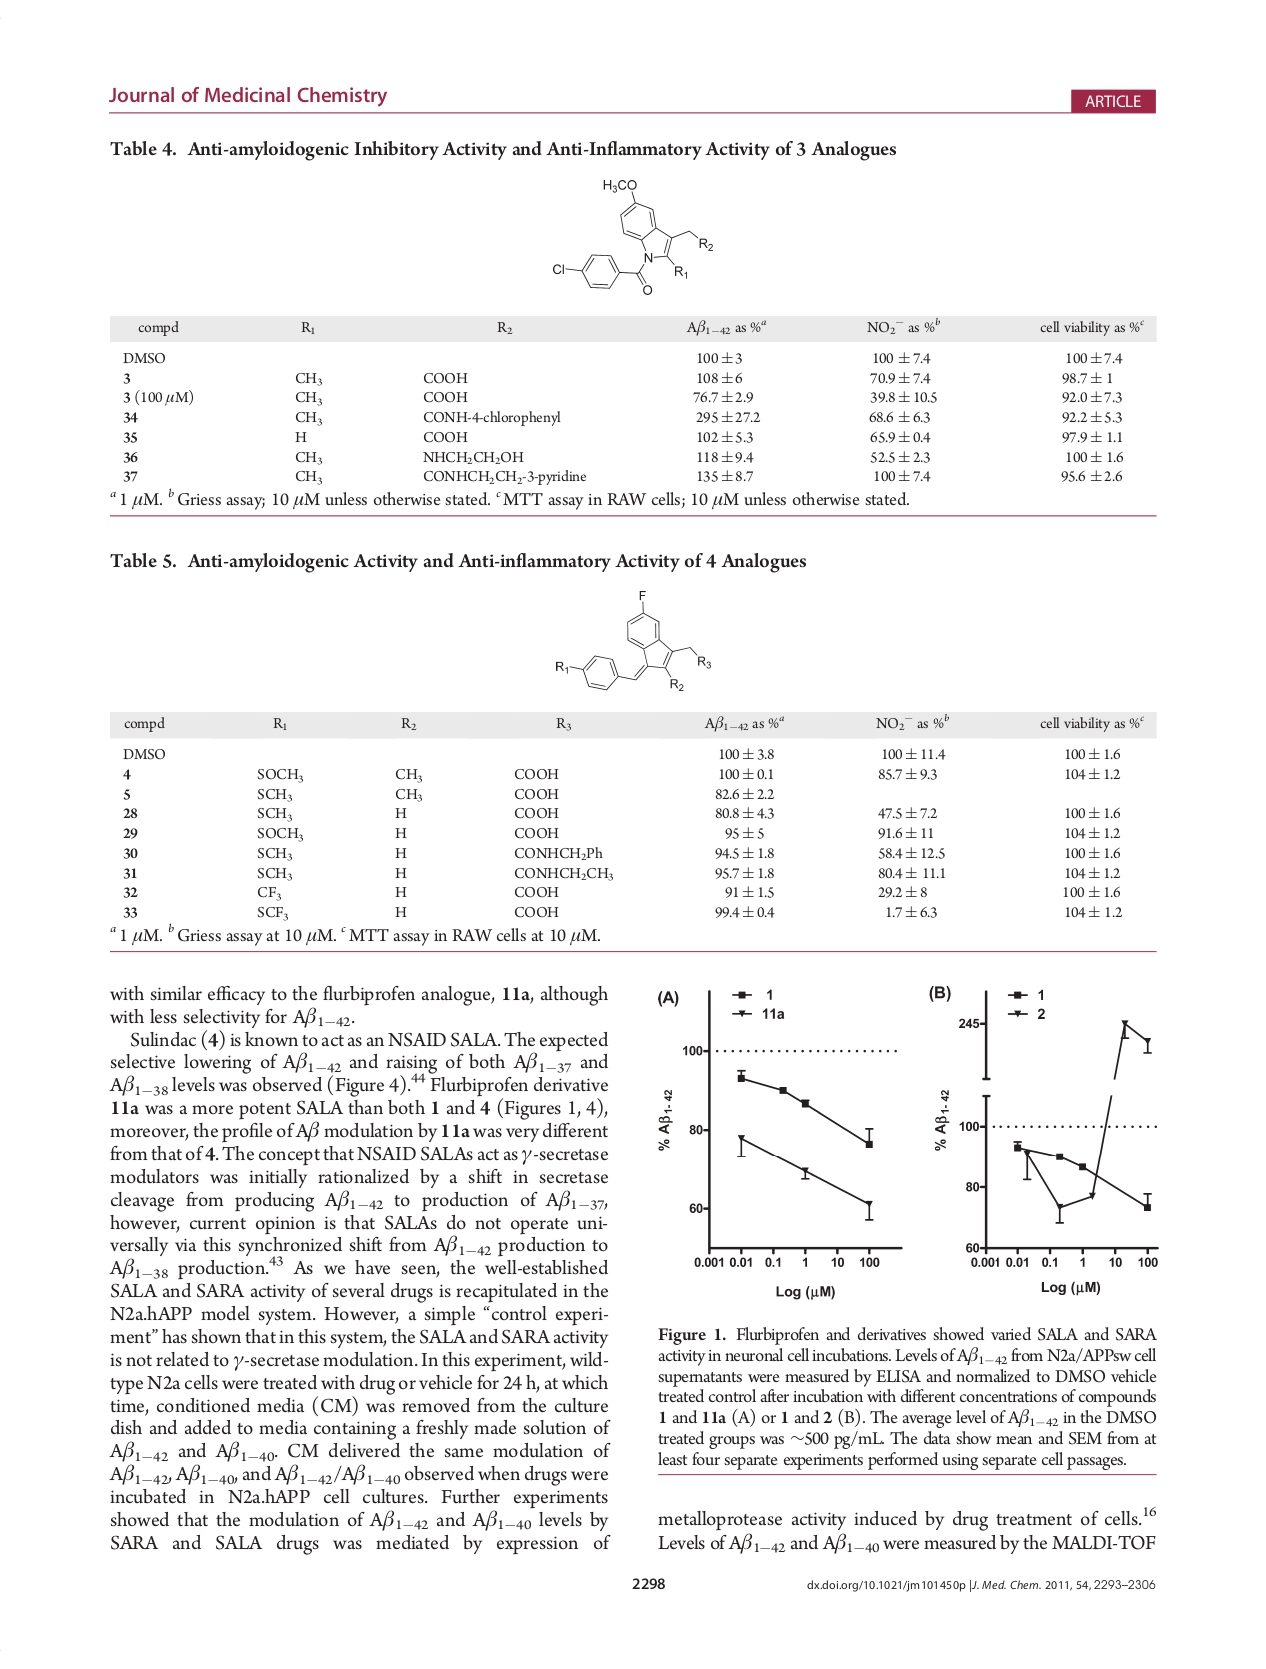exist_molecular: (549, 172, 719, 301), (549, 586, 718, 696)
